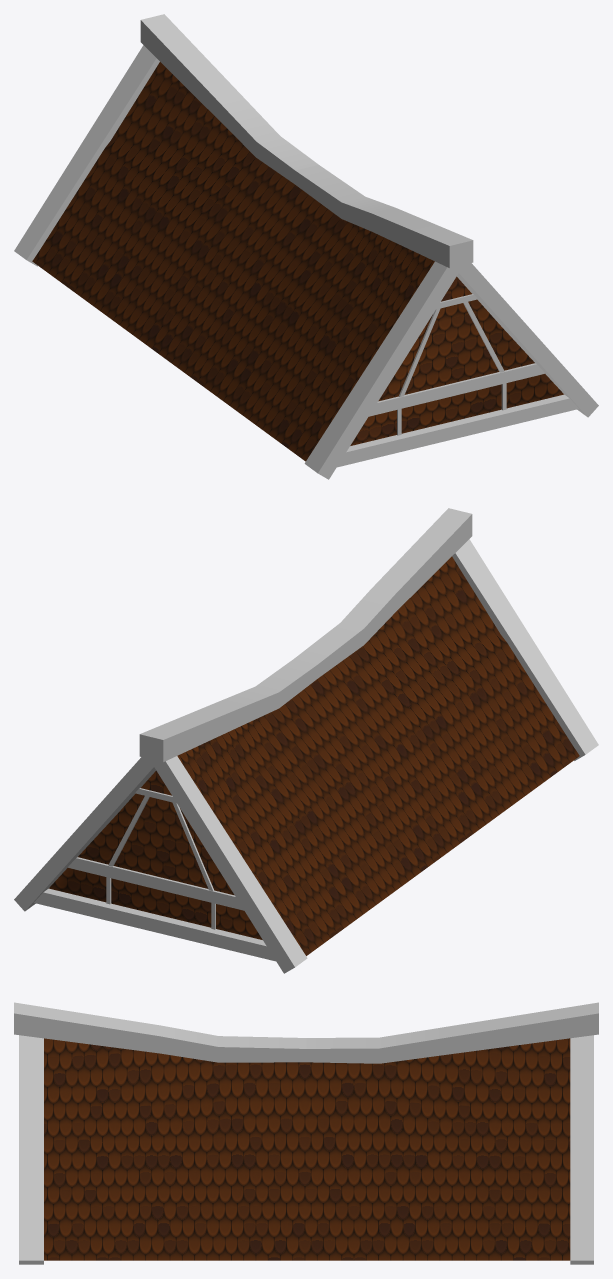
The model's file is Roof_Type4.fbx.
The picture shows the model from 3 angles, top to bottom: view 1: azimuth 30°, elevation 25°; view 2: azimuth 150°, elevation 25°; view 3: azimuth 270°, elevation 25°; orthographic projection. The views are drawn at different scales.
Parts seen in each view (by area): view 1: Roof_Type4; view 2: Roof_Type4; view 3: Roof_Type4.
Part boxes in pixels (box(x1,y1,x2,y2)): Roof_Type4: box(14, 14, 598, 479); Roof_Type4: box(14, 508, 598, 973); Roof_Type4: box(14, 1002, 598, 1264).
Bounding box in the file's own units: 559 × 395 × 1064.
